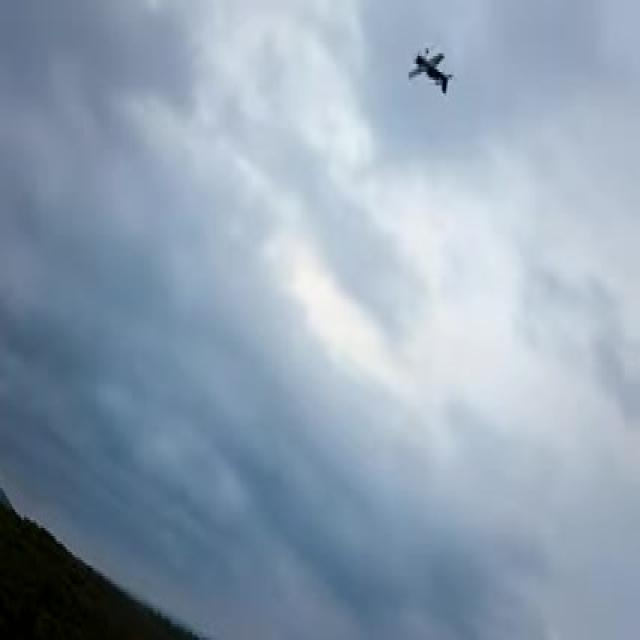iha: (408, 0, 455, 32)
